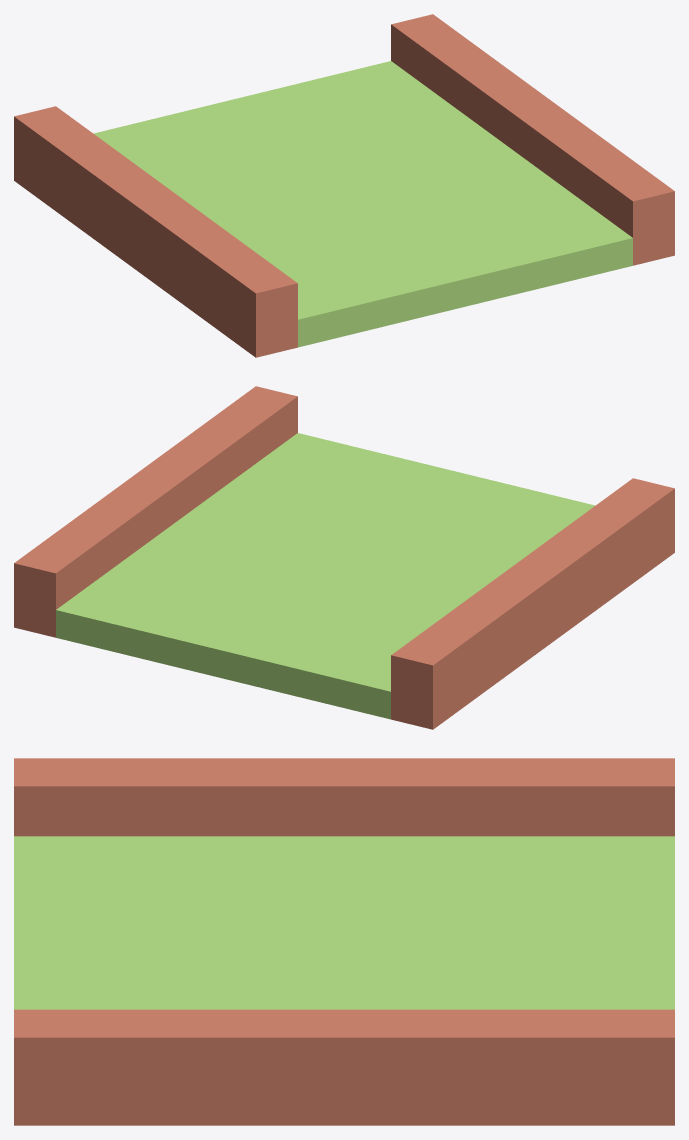
Rendered from Straight_01.glb.
3 views of the same model, one above another, from view 1: azimuth 30°, elevation 25°; view 2: azimuth 150°, elevation 25°; view 3: azimuth 270°, elevation 25° (orthographic). The views are drawn at different scales.
Visible parts, largest first — view 1: Mesh1 Straight Model; view 2: Mesh1 Straight Model; view 3: Mesh1 Straight Model.
Boxes of the visible parts, x1,y1,x2,y2 form: Mesh1 Straight Model: (14,14,674,357); Mesh1 Straight Model: (14,386,674,729); Mesh1 Straight Model: (14,758,674,1125).
Size of the model in its own units: 3 by 0.44 by 3.
